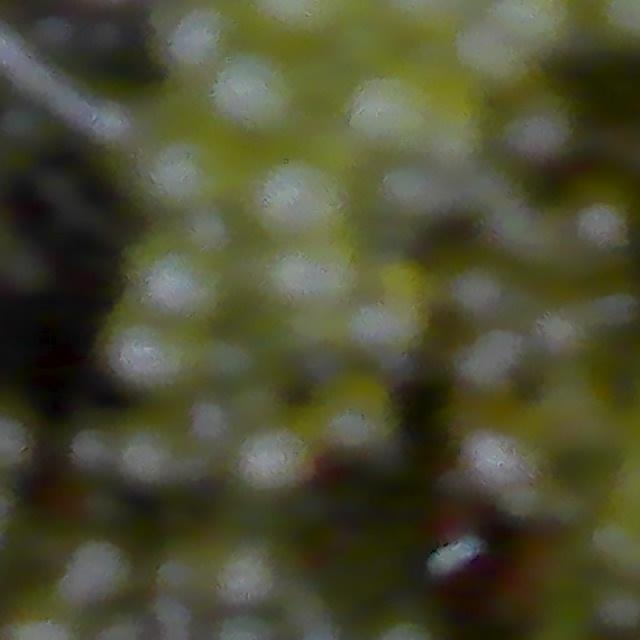SeaGrape: (244, 152, 348, 243), (210, 47, 304, 141), (101, 315, 191, 395), (139, 242, 226, 323), (501, 88, 577, 167), (163, 0, 232, 72), (63, 538, 132, 606)
